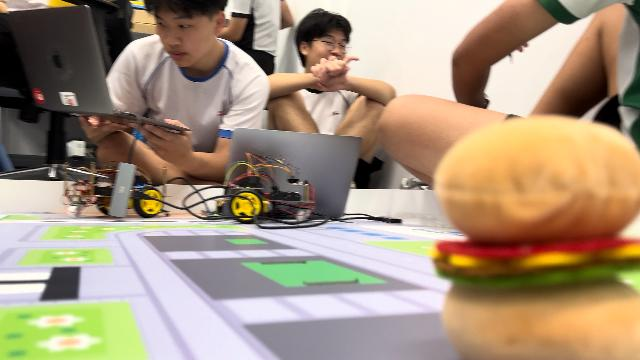burger: (428, 114, 640, 358)
